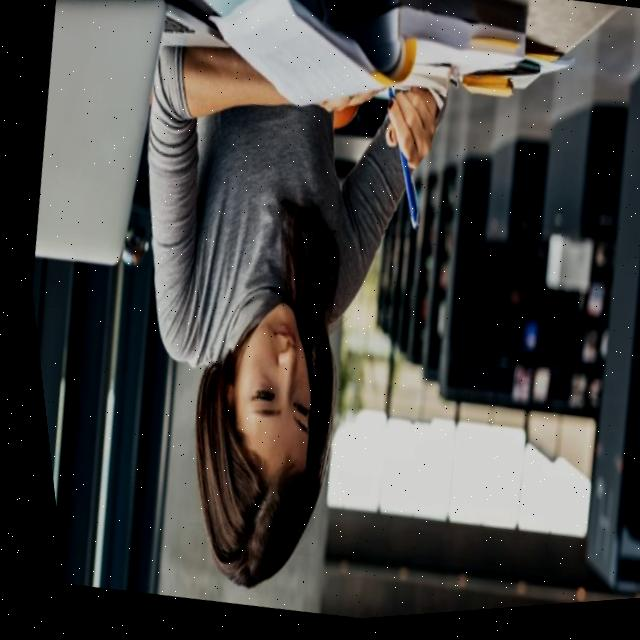studying-person: (118, 0, 573, 609)
